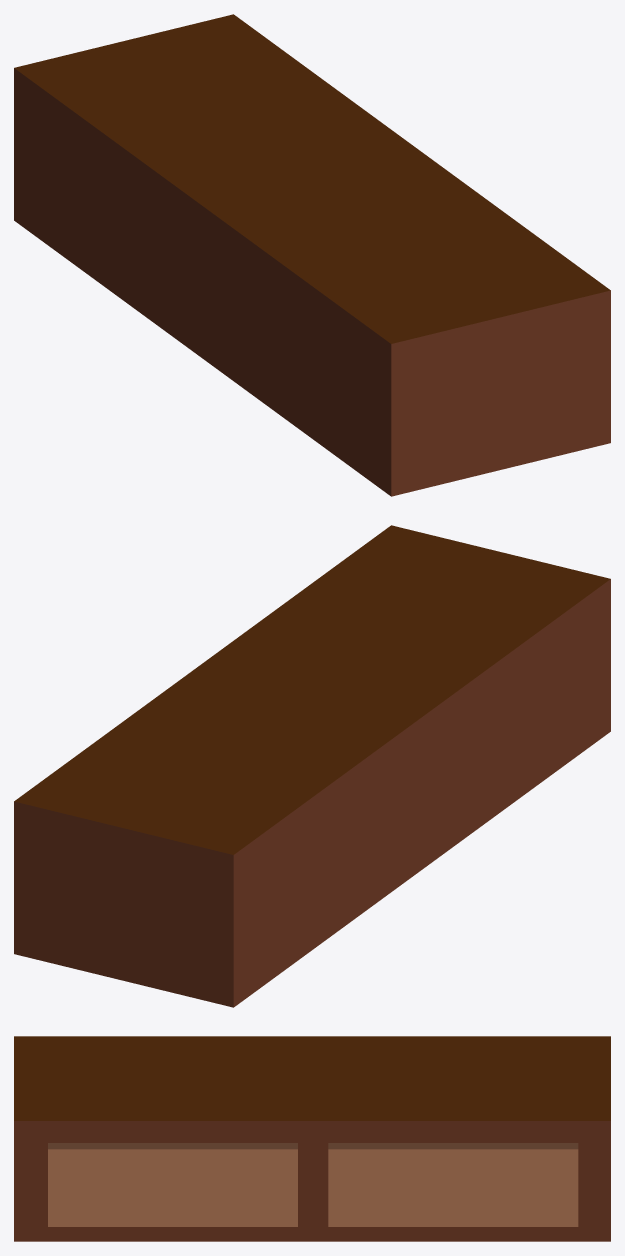
File: muebleGrande.obj
3 views of the same model, one above another, from view 1: azimuth 30°, elevation 25°; view 2: azimuth 150°, elevation 25°; view 3: azimuth 270°, elevation 25° (orthographic). The views are drawn at different scales.
Parts seen in each view (by area): view 1: pCube4; view 2: pCube4; view 3: pCube4.
Boxes of the visible parts, bbox=[...] form: pCube4: bbox=[14, 14, 610, 496]; pCube4: bbox=[14, 525, 610, 1007]; pCube4: bbox=[14, 1036, 610, 1241].
Size of the model in its own units: 8.28 by 5.5 by 24.63.
3 materials, 3 textured.
